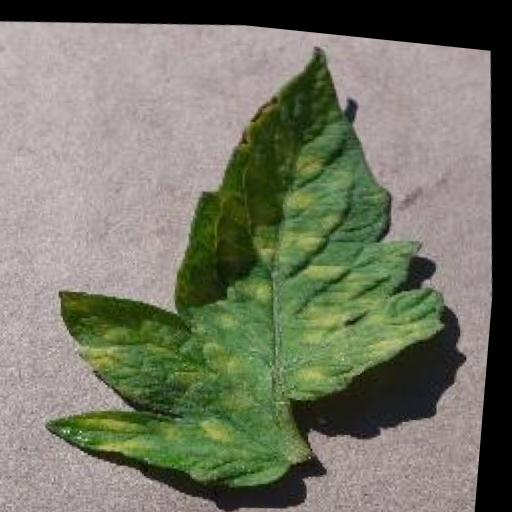Leaf Mold: (13, 4, 476, 512)
